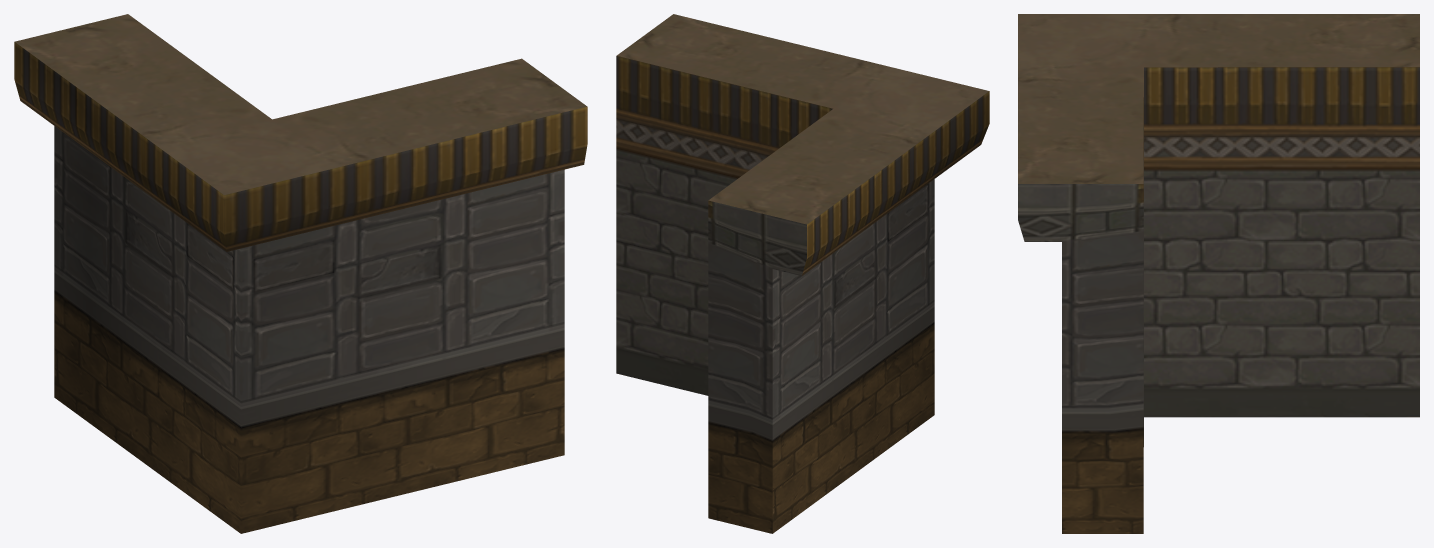
Rendered from Battle06_Wall_012.FBX.
3 views of the same model, side by side, from view 1: azimuth 30°, elevation 25°; view 2: azimuth 150°, elevation 25°; view 3: azimuth 270°, elevation 25° (orthographic). The views are drawn at different scales.
Parts seen in each view (by area): view 1: Battle06_Wall_012; view 2: Battle06_Wall_012; view 3: Battle06_Wall_012.
Part boxes in pixels (x1,y1,x2,y2): Battle06_Wall_012: (14, 14, 587, 533); Battle06_Wall_012: (616, 14, 989, 533); Battle06_Wall_012: (1018, 14, 1419, 533).
Size of the model in its own units: 9.65 by 9.27 by 9.65.
